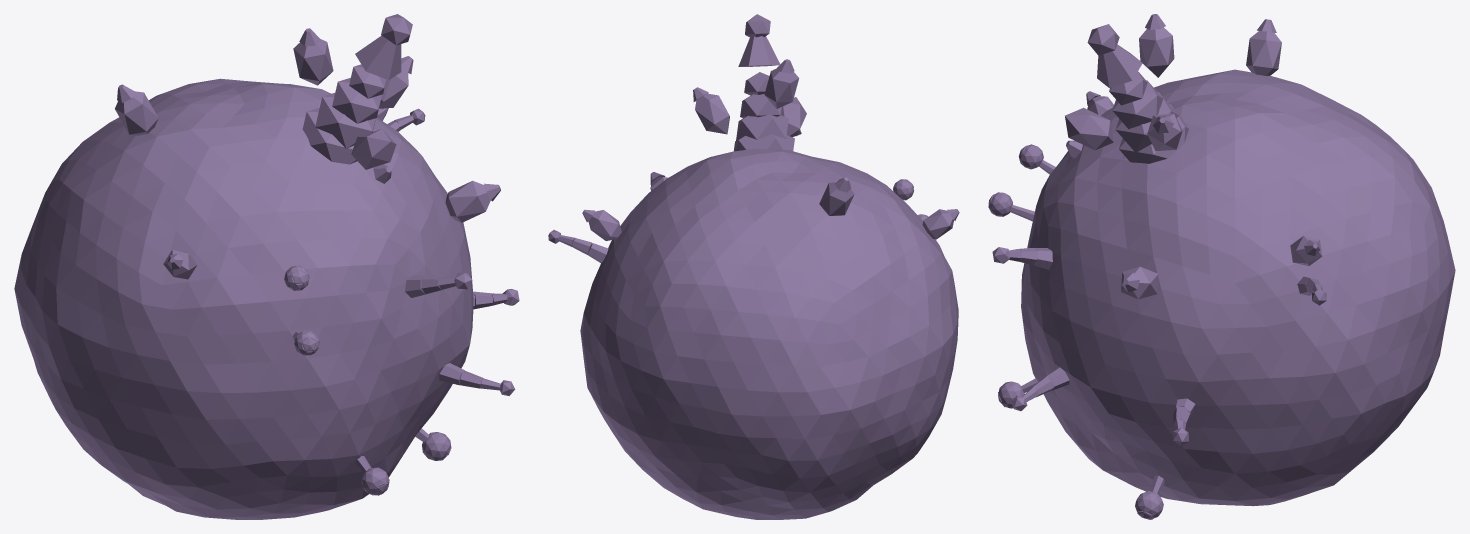
Rendered from Alien_05.fbx.
The picture shows the model from 3 angles, left to right: view 1: azimuth 30°, elevation 25°; view 2: azimuth 150°, elevation 25°; view 3: azimuth 270°, elevation 25°; orthographic projection. The views are drawn at different scales.
Parts seen in each view (by area): view 1: Alien_05; view 2: Alien_05; view 3: Alien_05.
Part boxes in pixels (x1,y1,x2,y2): Alien_05: (14, 14, 519, 519); Alien_05: (548, 14, 959, 519); Alien_05: (988, 14, 1455, 519).
Size of the model in its own units: 6.83 by 7.53 by 6.43.
